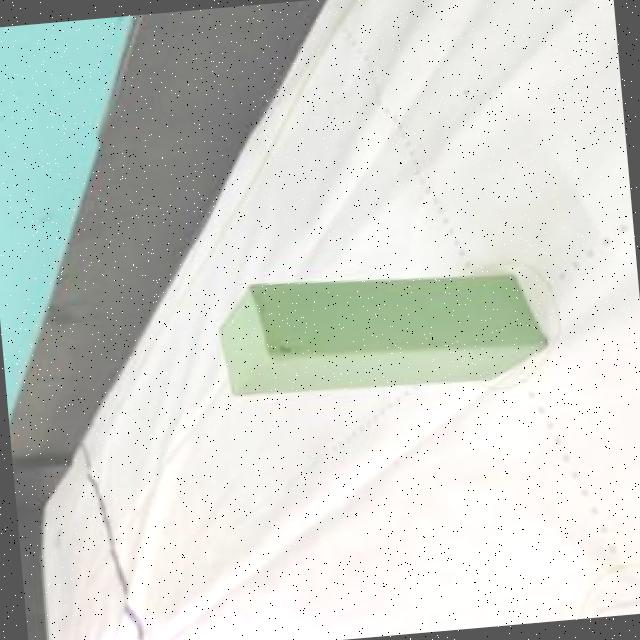greenbox: (210, 255, 552, 406)
